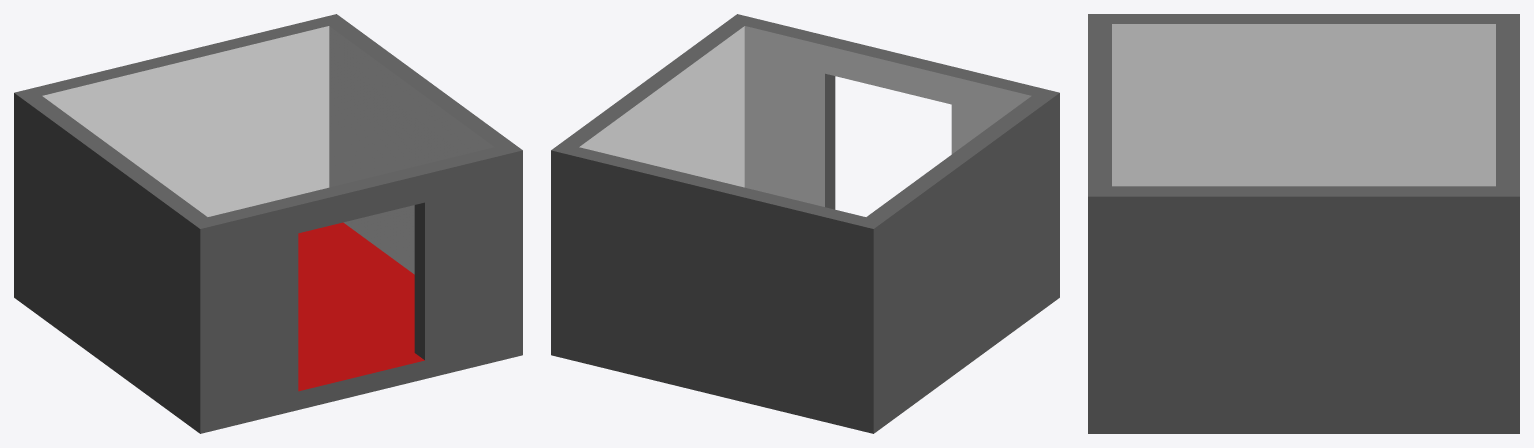
File: I_Elevator.fbx
The picture shows the model from 3 angles, left to right: view 1: azimuth 30°, elevation 25°; view 2: azimuth 150°, elevation 25°; view 3: azimuth 270°, elevation 25°; orthographic projection. The views are drawn at different scales.
Parts seen in each view (by area): view 1: I_Elevator; view 2: I_Elevator; view 3: I_Elevator.
Part boxes in pixels (x1,y1,x2,y2): I_Elevator: [14, 14, 522, 433]; I_Elevator: [551, 14, 1059, 433]; I_Elevator: [1088, 14, 1519, 433].
Bounding box in the file's own units: 363 × 220 × 363.
Materials: 1 (1 with a texture image).
